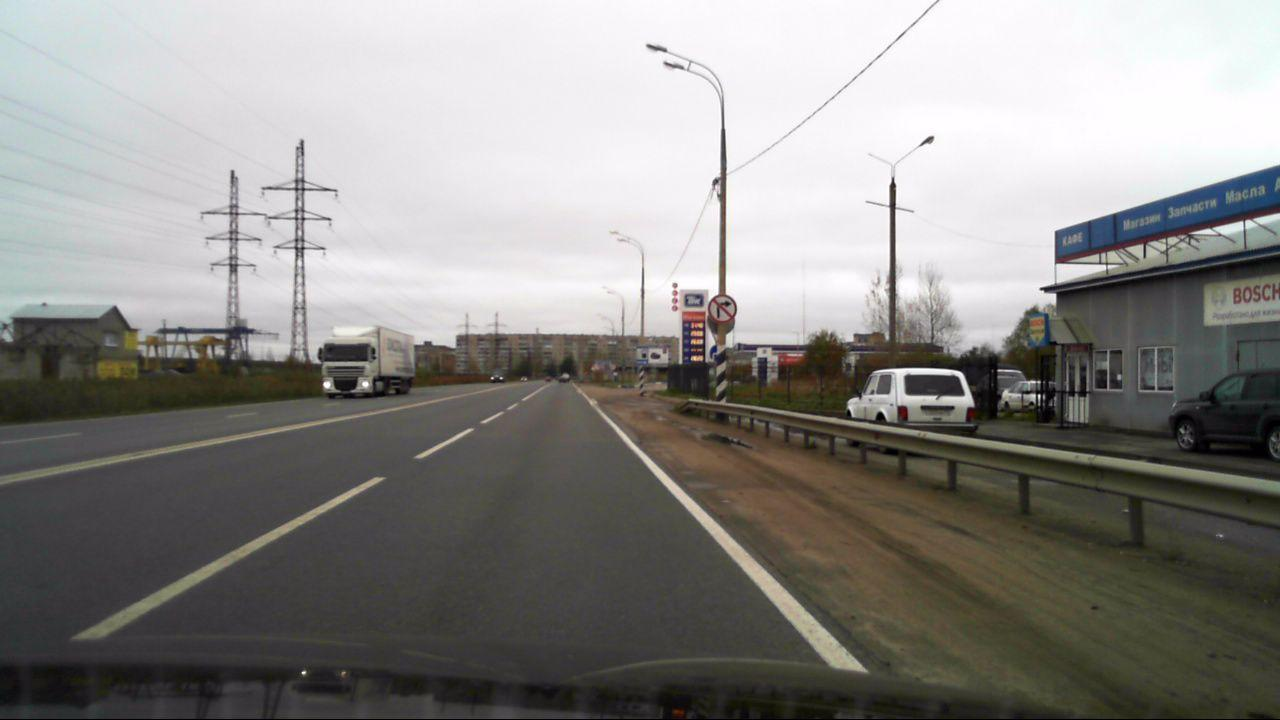3_18_1: (708, 295, 736, 322)
7_3: (633, 346, 650, 367)
